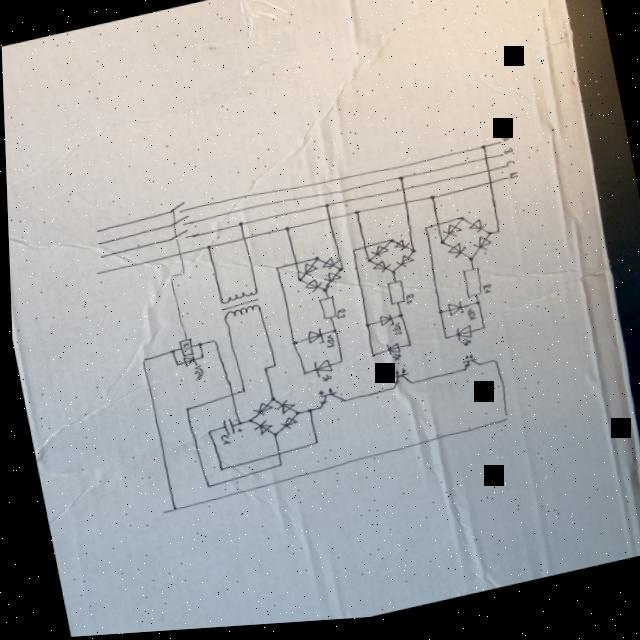capacitor: (218, 419, 239, 440)
crossover: (478, 161, 489, 169), (482, 185, 493, 193), (395, 191, 406, 199), (397, 204, 408, 212), (321, 219, 332, 227), (235, 238, 246, 246), (223, 394, 234, 402), (480, 174, 491, 181), (430, 226, 441, 233), (357, 249, 368, 256), (288, 264, 299, 271), (269, 454, 280, 461)
diode: (443, 248, 465, 268), (468, 241, 491, 260), (463, 223, 486, 241), (294, 265, 317, 283), (271, 401, 294, 419), (248, 403, 271, 421), (438, 228, 460, 246), (367, 264, 390, 281), (249, 423, 270, 441), (391, 259, 414, 275), (319, 273, 339, 291), (317, 259, 339, 275), (303, 332, 321, 351), (301, 281, 321, 298), (366, 248, 387, 264), (275, 419, 295, 435), (389, 243, 409, 258), (443, 307, 461, 323), (375, 318, 391, 334), (178, 357, 195, 372)
junction: (498, 419, 508, 429), (425, 200, 436, 208), (419, 230, 430, 238), (296, 373, 307, 381), (477, 150, 487, 158), (351, 213, 361, 221), (321, 206, 331, 214), (465, 262, 475, 270), (406, 253, 416, 261), (364, 261, 374, 269), (234, 224, 244, 232), (270, 268, 280, 276), (326, 331, 336, 339), (201, 246, 211, 254), (171, 363, 181, 371), (165, 349, 175, 357), (165, 507, 175, 515), (271, 465, 281, 473), (361, 326, 371, 334), (347, 252, 358, 259), (392, 317, 403, 324), (192, 343, 201, 351), (236, 390, 245, 398), (202, 431, 211, 439), (288, 414, 297, 422), (395, 180, 405, 187), (456, 221, 466, 228), (435, 245, 445, 252), (385, 242, 395, 249), (386, 274, 396, 281), (280, 229, 290, 236), (200, 485, 210, 492), (332, 363, 342, 370), (365, 357, 375, 364), (401, 347, 411, 354), (195, 356, 204, 363), (137, 359, 146, 366), (180, 408, 189, 415), (242, 420, 251, 427), (214, 468, 223, 475), (231, 423, 240, 430), (267, 436, 276, 443), (265, 399, 274, 406), (308, 443, 317, 450), (302, 411, 311, 418), (477, 331, 486, 338), (258, 369, 266, 376), (471, 306, 479, 313), (483, 237, 490, 244), (312, 259, 319, 266), (207, 341, 215, 347), (268, 366, 276, 372), (439, 341, 447, 347), (434, 315, 442, 321), (488, 365, 496, 371), (311, 409, 319, 415), (334, 271, 342, 277), (492, 235, 499, 241), (288, 344, 295, 350), (337, 402, 344, 408), (293, 280, 300, 286), (318, 291, 325, 297), (473, 368, 479, 374), (458, 373, 464, 378), (405, 386, 410, 391), (388, 391, 393, 396)
resistor: (458, 272, 481, 305), (382, 284, 404, 311), (315, 300, 335, 325)
switch: (164, 230, 189, 246), (166, 217, 190, 233), (164, 203, 187, 219)
terminal: (91, 271, 100, 278), (500, 182, 509, 188), (500, 170, 509, 176), (91, 229, 100, 235), (93, 242, 102, 248), (96, 255, 105, 261), (495, 159, 505, 164), (493, 147, 502, 152)
text: (189, 366, 201, 384), (320, 338, 333, 353), (462, 313, 473, 329), (332, 312, 344, 325), (216, 436, 228, 449), (401, 298, 413, 310), (389, 328, 400, 341), (478, 290, 489, 301), (501, 153, 513, 162), (506, 178, 518, 187), (179, 344, 187, 355), (503, 167, 514, 174), (499, 143, 509, 150)
transformer: (213, 290, 260, 324)
